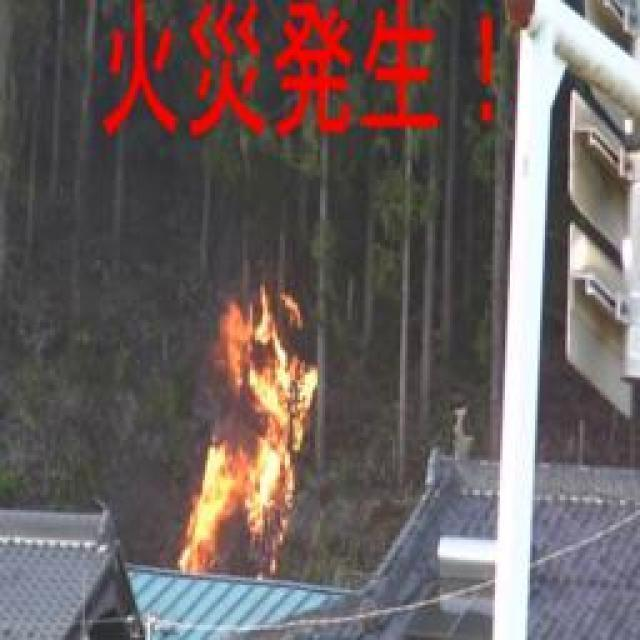Fire: (176, 300, 328, 581)
